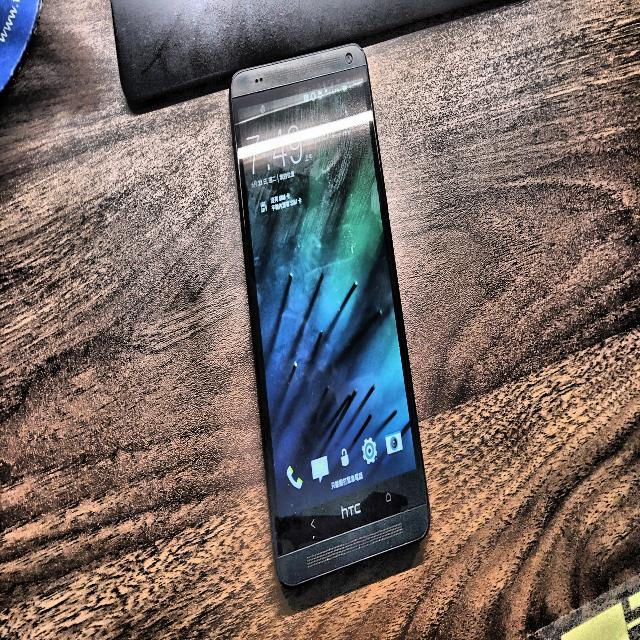PHONE: (230, 44, 430, 585)
